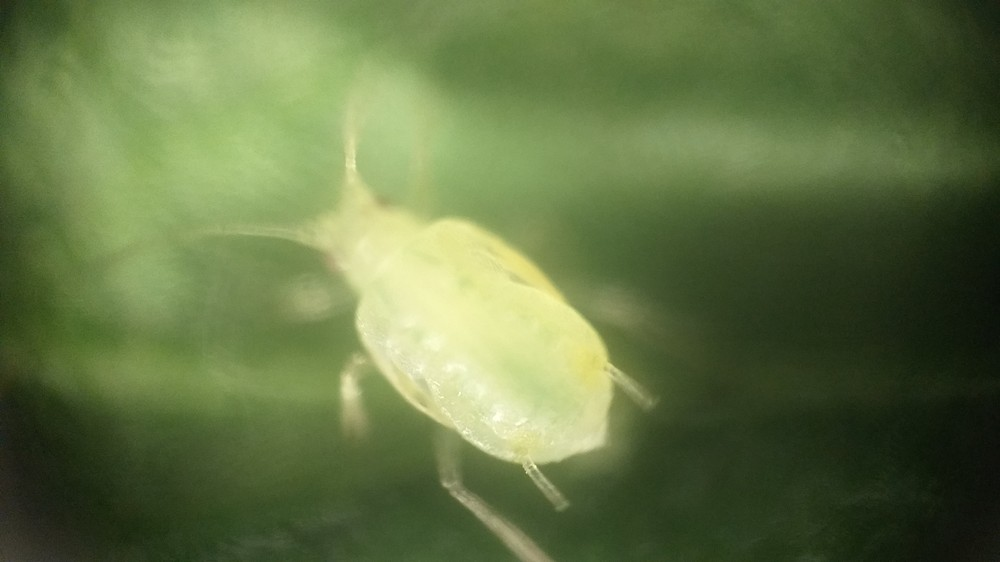Pulgon: (128, 60, 719, 562)
